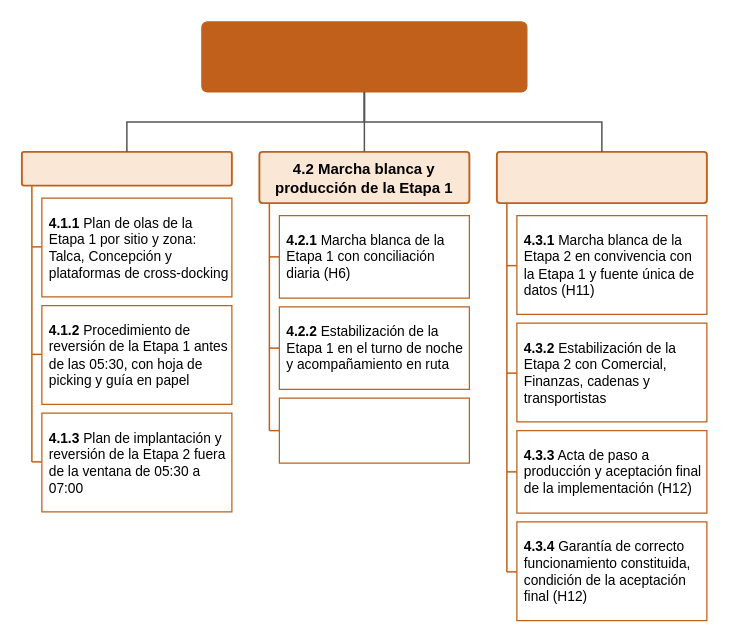
This 730x643 diagram has some shape labels left out. Here are the shapes that lost their labels. From the top down, the centre of each, then its label:
At pixel 364 56: "4. Transición 3 CC · 10 PT".
At pixel 126 168: "4.1 Plan de implantación".
At pixel 601 177: "4.3 Marcha blanca y producción de la Etapa 2".
At pixel 373 430: "4.2.3 Acta de paso a producción y cierre de la Etapa 1 (H7)".
